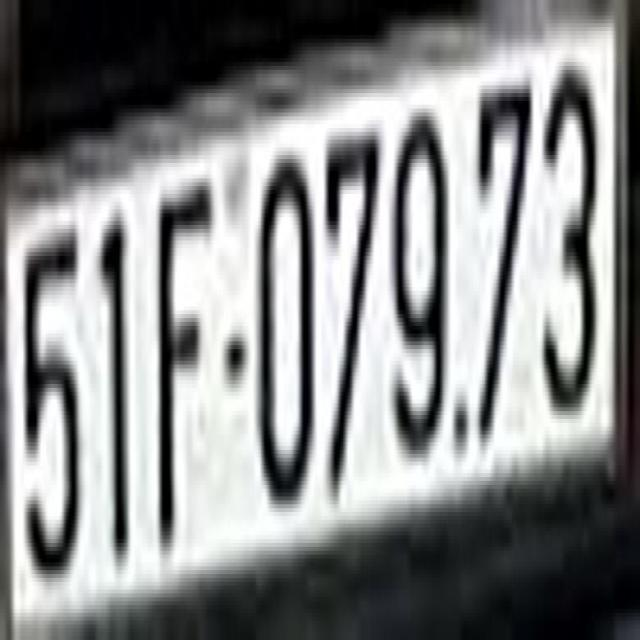0: (256, 124, 316, 512)
1: (99, 209, 143, 566)
3: (538, 62, 599, 434)
5: (19, 202, 81, 590)
7: (322, 108, 376, 500), (478, 62, 532, 446)
9: (391, 97, 445, 462)
F: (155, 170, 214, 554)
